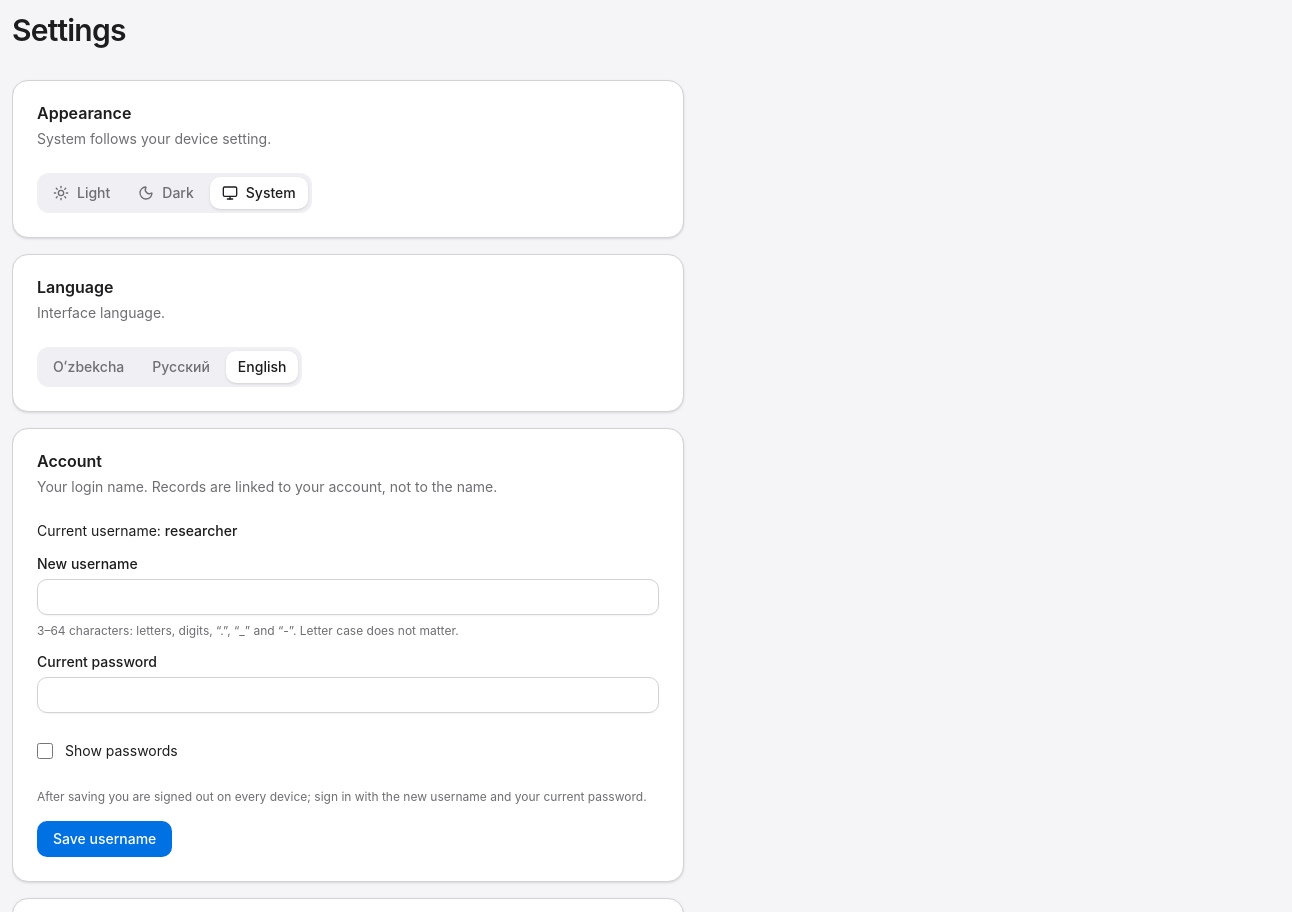
Test: Settings → Account: change username › success signs out and the login page says to use the new name
The width and height of the screenshot is (1292, 912).
Type "Hunter" into the field labelled "New username".
click(348, 597); type("Hunter")  # box [37,579,659,615]
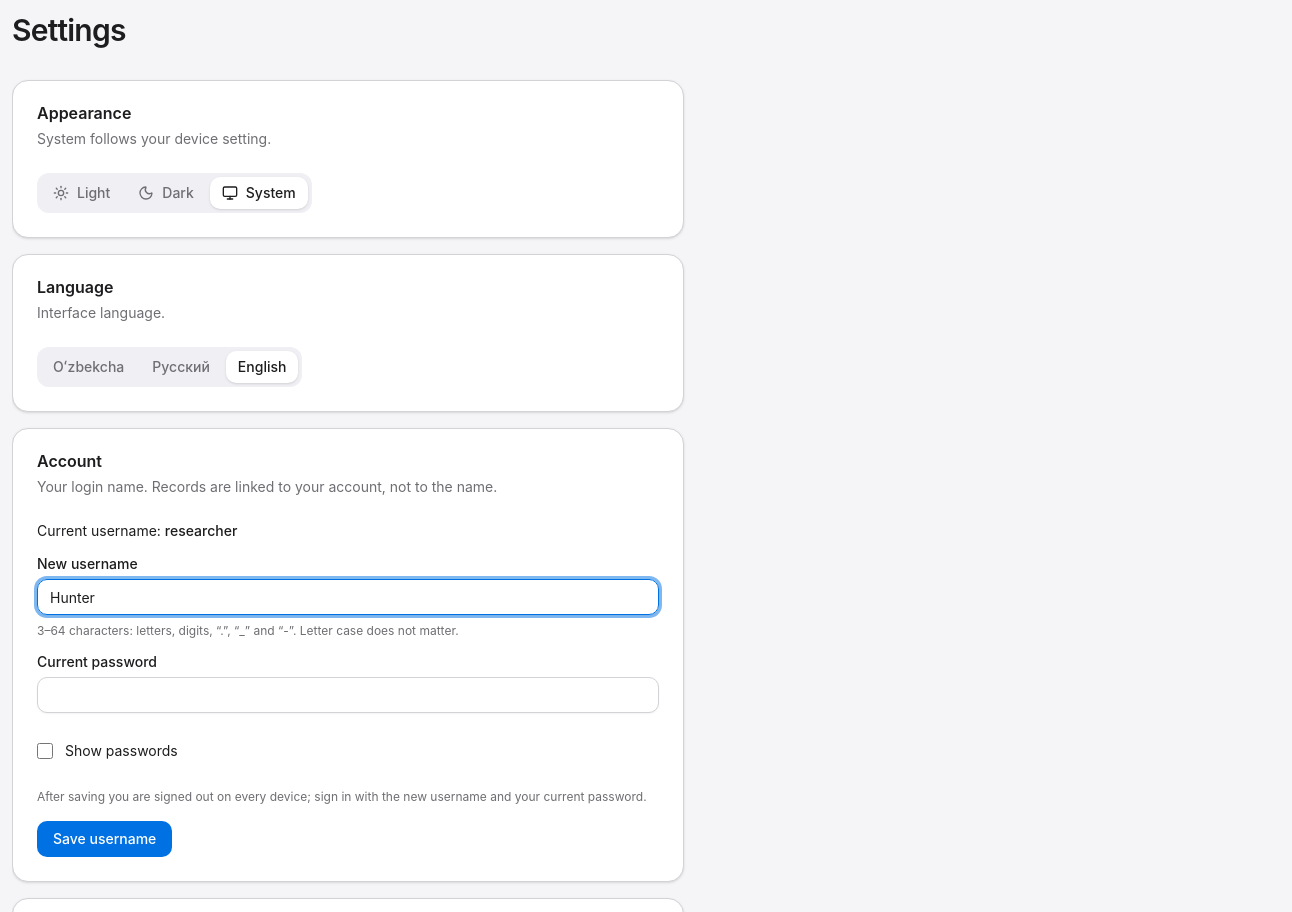
Type "current passphrase" into the password field labelled "Current password".
click(348, 695); type("current passphrase")  # box [37,677,659,713]
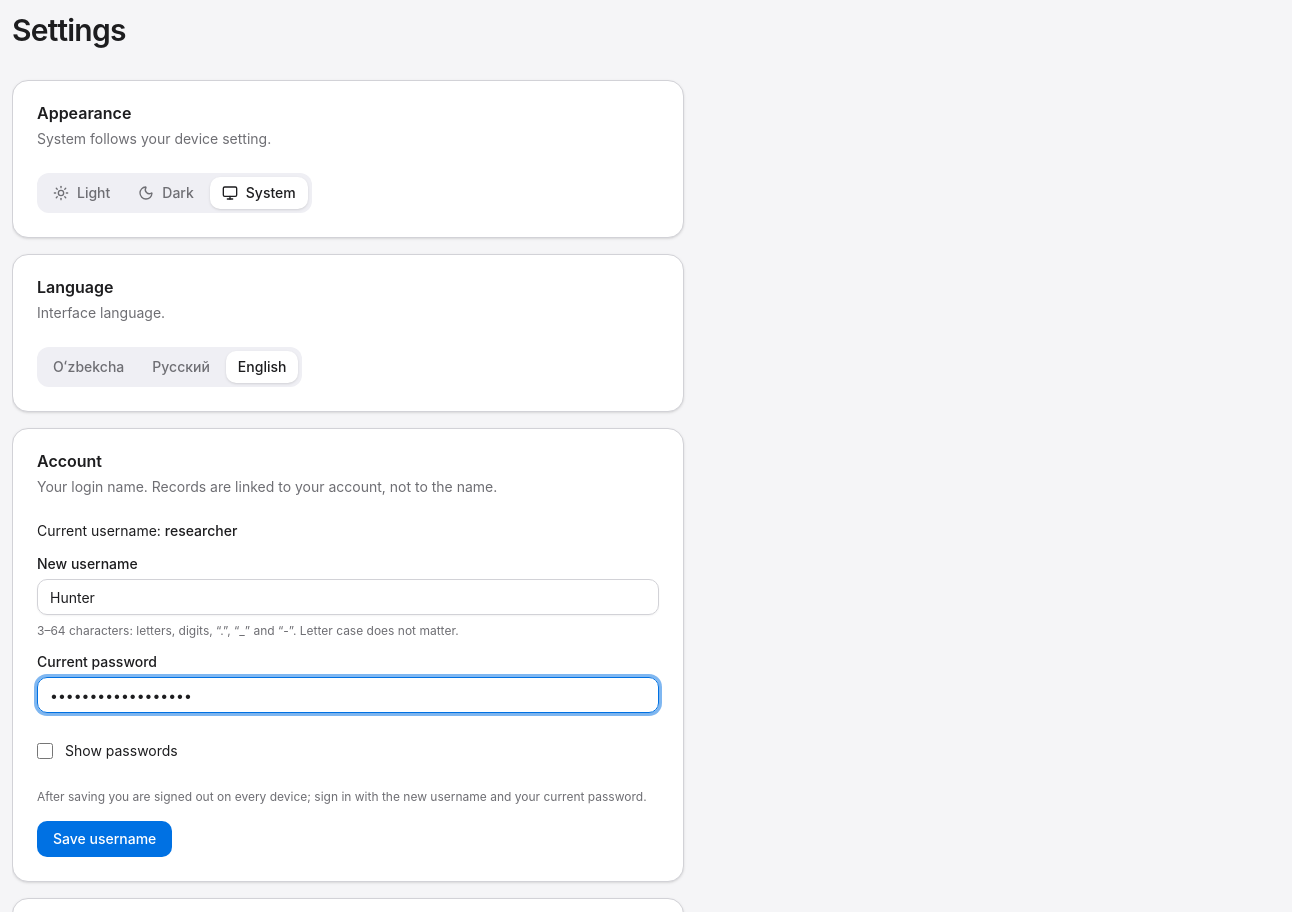
Click the button "Save username".
click(105, 839)  # box [37,821,172,857]
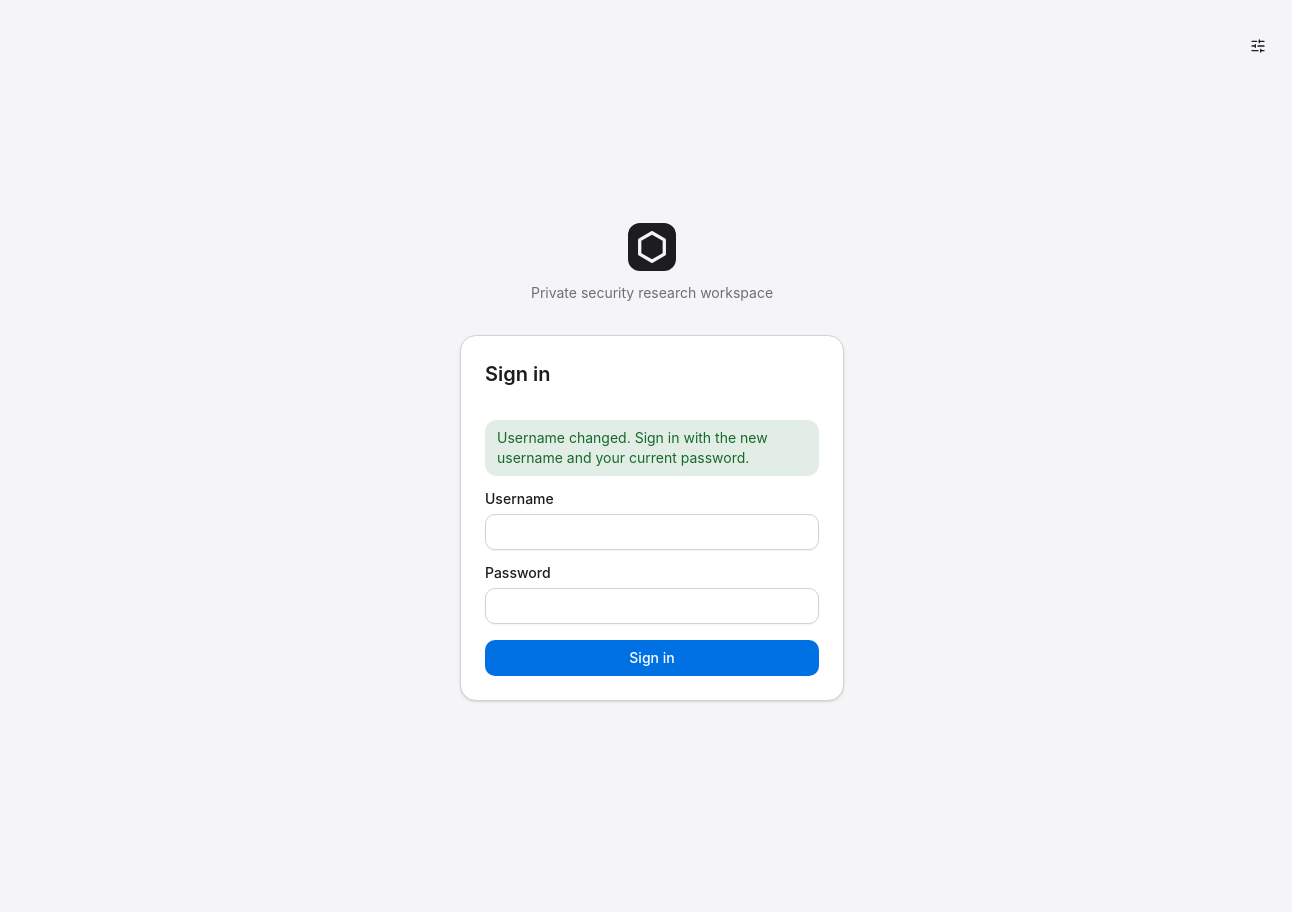
Expected: the heading "Sign in" is shown, [485,362,550,386]
